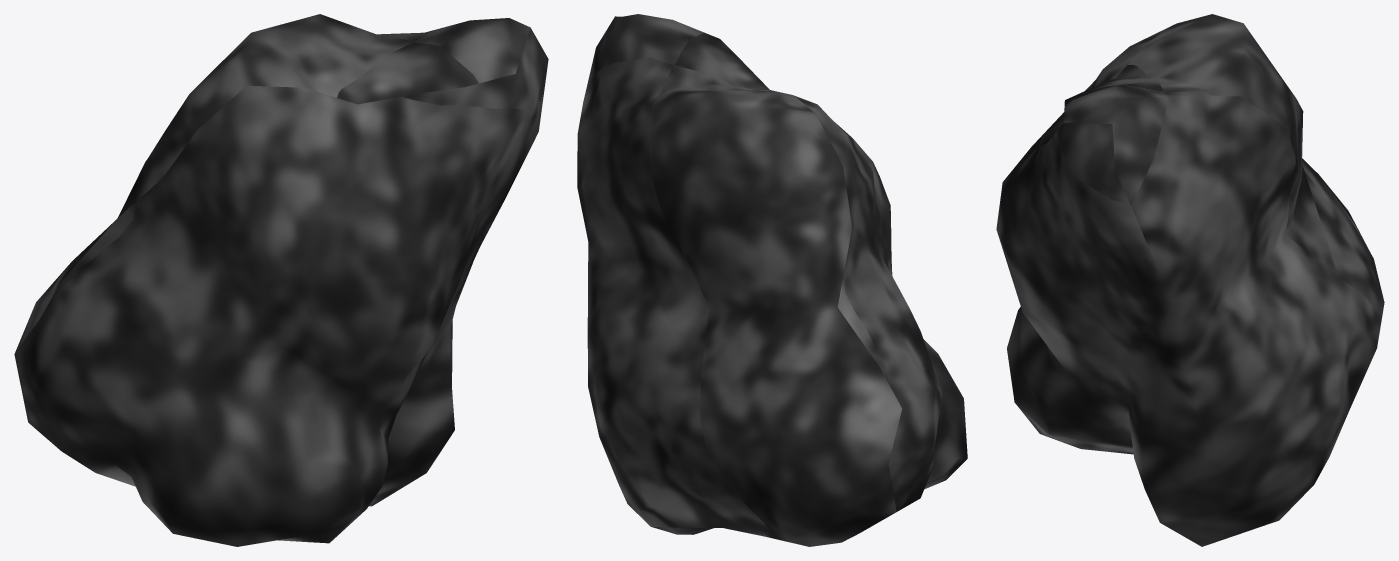
File: shi3.FBX
3 renders of one model, left to right at view 1: azimuth 30°, elevation 25°; view 2: azimuth 150°, elevation 25°; view 3: azimuth 270°, elevation 25°, orthographic. The views are drawn at different scales.
Visible parts, largest first — view 1: stone_06_02; view 2: stone_06_02; view 3: stone_06_02.
Part boxes in pixels (x1,y1,x2,y2): stone_06_02: (14, 14, 548, 546); stone_06_02: (577, 14, 967, 546); stone_06_02: (996, 14, 1384, 546).
Size of the model in its own units: 213 by 229 by 165.
